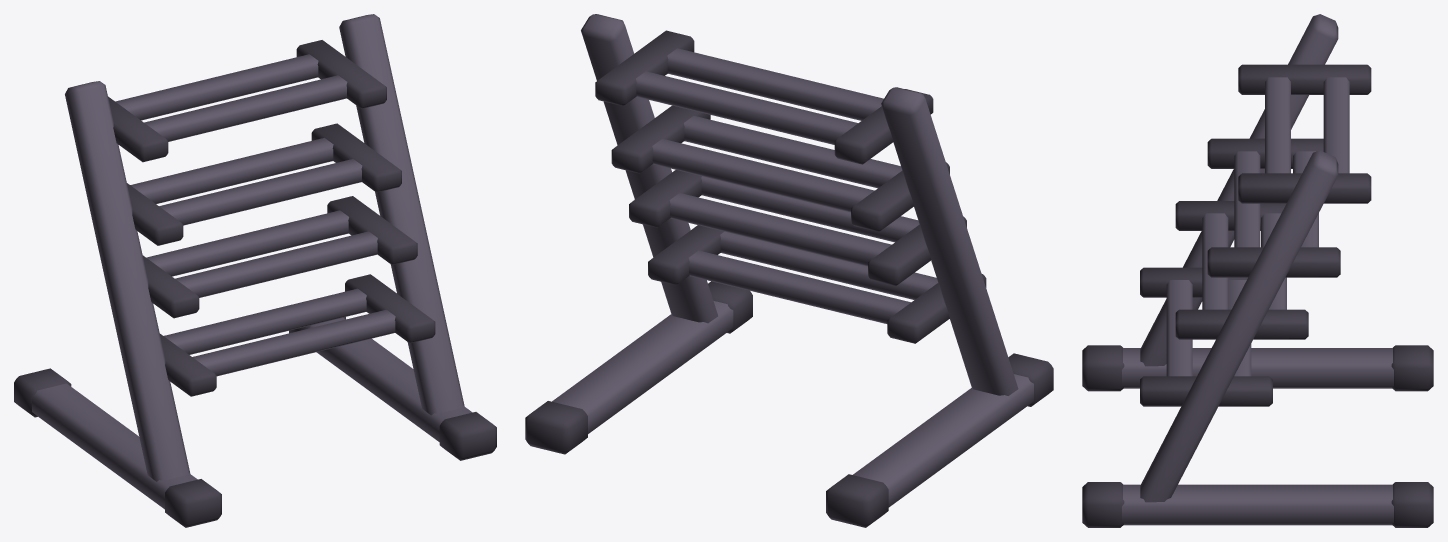
Rendered from Dumbbell_Rack_v01.fbx.
3 renders of one model, left to right at view 1: azimuth 30°, elevation 25°; view 2: azimuth 150°, elevation 25°; view 3: azimuth 270°, elevation 25°, orthographic. The views are drawn at different scales.
Parts seen in each view (by area): view 1: Dumbbell_Rack_v01; view 2: Dumbbell_Rack_v01; view 3: Dumbbell_Rack_v01.
Boxes of the visible parts, x1,y1,x2,y2 form: Dumbbell_Rack_v01: (14,14,496,527); Dumbbell_Rack_v01: (525,14,1053,527); Dumbbell_Rack_v01: (1082,14,1433,527).
Bounding box in the file's own units: 1.01 × 1.09 × 0.9558.
1 material, 1 textured.
